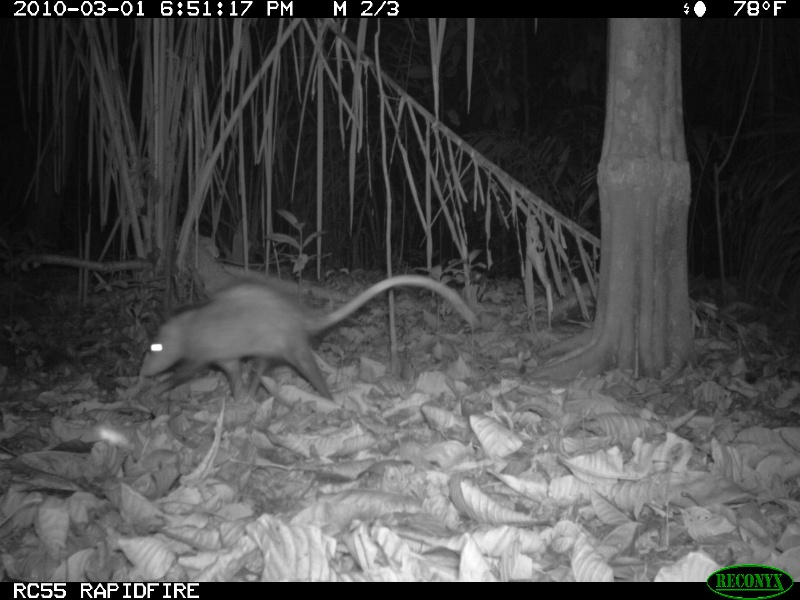opossum: (134, 267, 476, 406)
